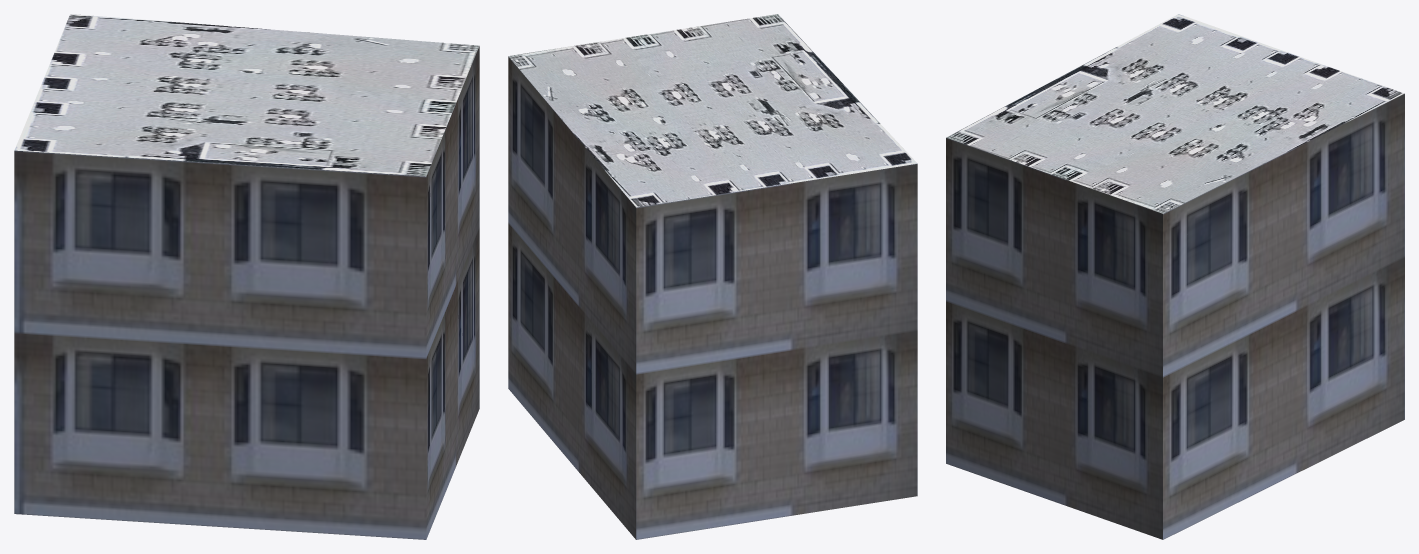
File: ResTex__340.fbx
The picture shows the model from 3 angles, left to right: view 1: azimuth 30°, elevation 25°; view 2: azimuth 150°, elevation 25°; view 3: azimuth 270°, elevation 25°; orthographic projection. The views are drawn at different scales.
Visible parts, largest first — view 1: CityEngineMaterial_3_m, CityEngineMaterial_m; view 2: CityEngineMaterial_3_m, CityEngineMaterial_m; view 3: CityEngineMaterial_3_m, CityEngineMaterial_m.
Part boxes in pixels (<box>): CityEngineMaterial_3_m: <box>14,46,479,539</box>; CityEngineMaterial_m: <box>14,14,479,176</box>; CityEngineMaterial_3_m: <box>508,56,917,539</box>; CityEngineMaterial_m: <box>508,14,917,207</box>; CityEngineMaterial_3_m: <box>946,93,1404,539</box>; CityEngineMaterial_m: <box>946,14,1404,213</box>.
Size of the model in its own units: 7.89 by 6 by 7.65.
Materials: 2 (2 with a texture image).
